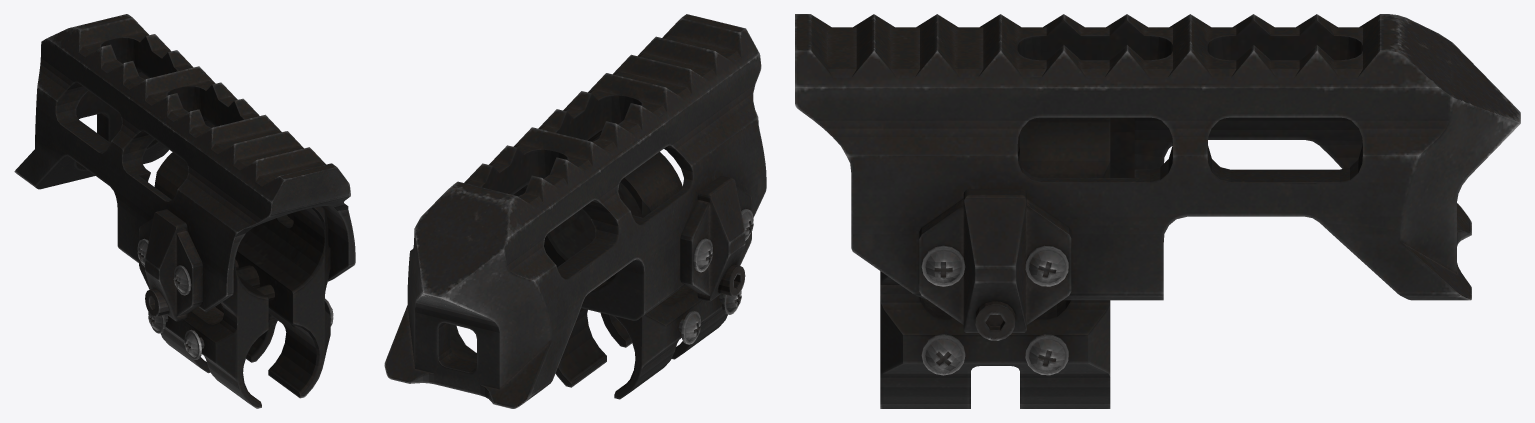
The picture shows the model from 3 angles, left to right: view 1: azimuth 30°, elevation 25°; view 2: azimuth 150°, elevation 25°; view 3: azimuth 270°, elevation 25°; orthographic projection. The views are drawn at different scales.
Parts seen in each view (by area): view 1: TW_606f26752535c57a13424d22_PZ_Import; view 2: TW_606f26752535c57a13424d22_PZ_Import; view 3: TW_606f26752535c57a13424d22_PZ_Import.
Part boxes in pixels (x1,y1,x2,y2): TW_606f26752535c57a13424d22_PZ_Import: (14,14,355,408); TW_606f26752535c57a13424d22_PZ_Import: (384,14,766,408); TW_606f26752535c57a13424d22_PZ_Import: (795,14,1520,408).
Bounding box in the file's own units: 0.0295 × 0.0729 × 0.0399.
Materials: 1 (1 with a texture image).
